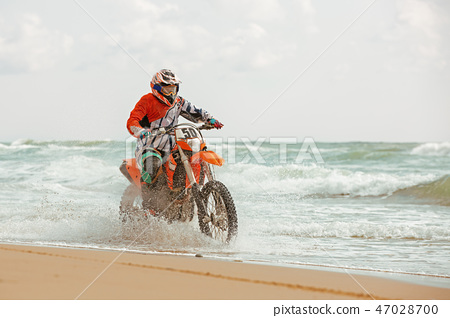helmet: (150, 69, 183, 106)
